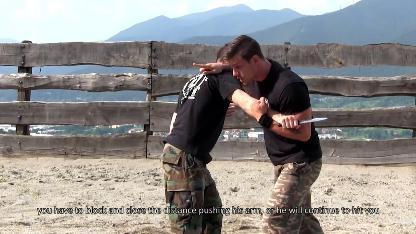knife: (274, 114, 330, 130)
